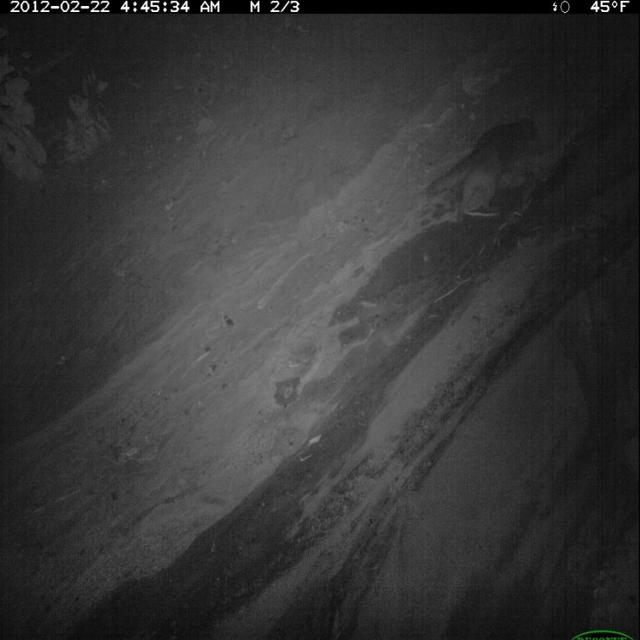raccoon: (425, 112, 552, 231)
